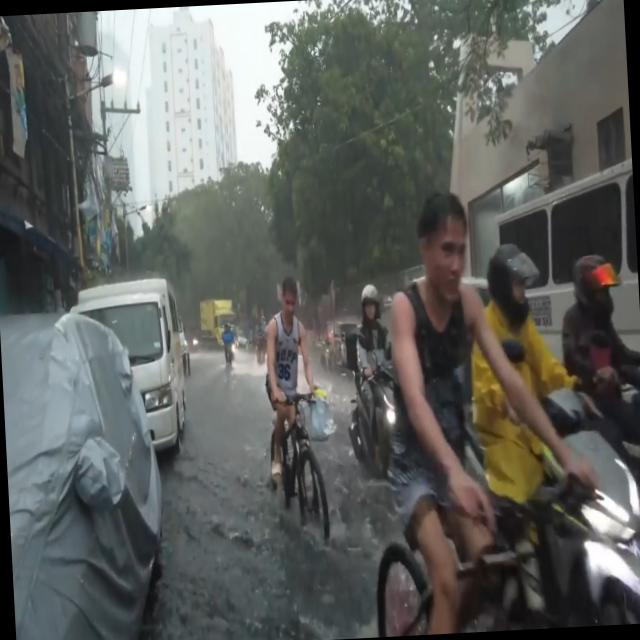full: (486, 242, 544, 328), (568, 250, 622, 328)
half: (360, 283, 382, 326)
